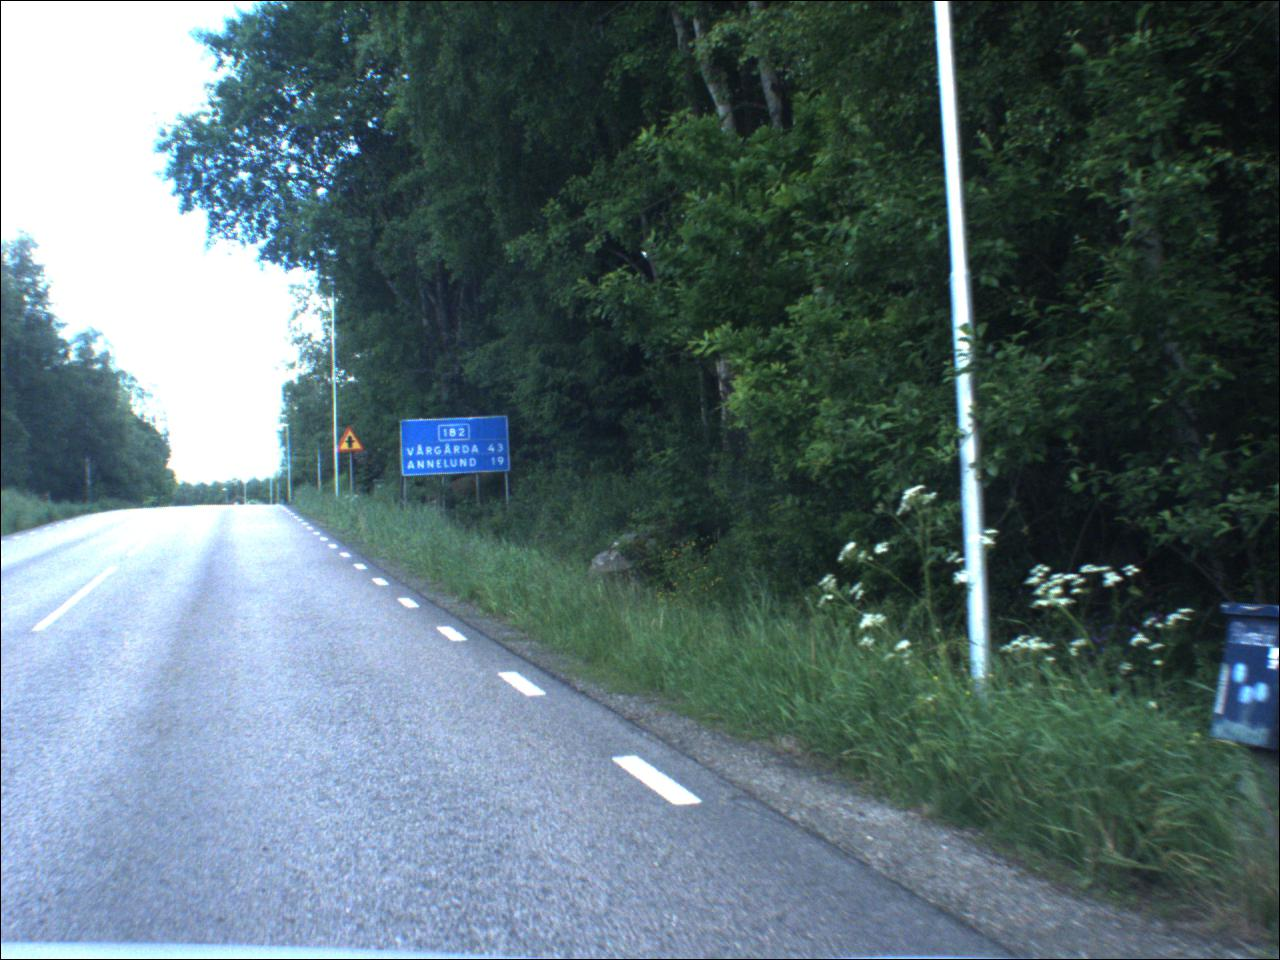WARNING_CROSSING_ROAD: (338, 424, 368, 455)
